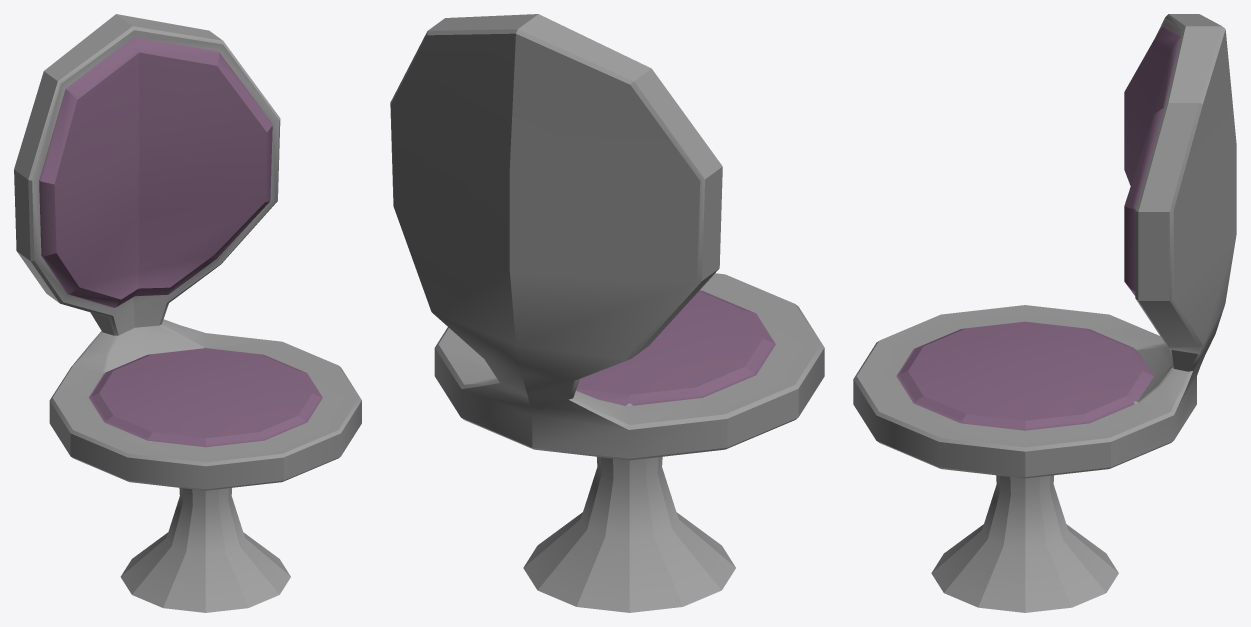
File: GAME3040 - Chair.fbx
3 views of the same model, side by side, from view 1: azimuth 30°, elevation 25°; view 2: azimuth 150°, elevation 25°; view 3: azimuth 270°, elevation 25° (orthographic). The views are drawn at different scales.
Visible parts, largest first — view 1: pCylinder1; view 2: pCylinder1; view 3: pCylinder1.
Part boxes in pixels (x1,y1,x2,y2): pCylinder1: [14, 14, 361, 612]; pCylinder1: [390, 14, 824, 612]; pCylinder1: [853, 14, 1236, 612].
Size of the model in its own units: 2 by 3.51 by 2.23.
